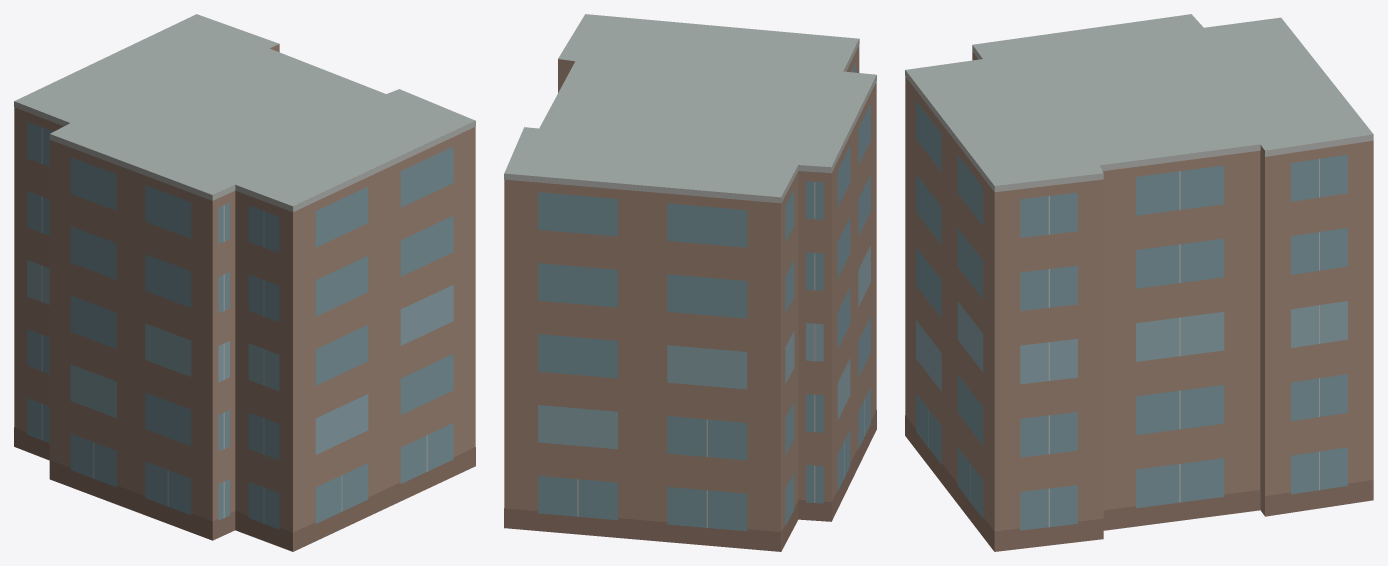
File: survey-upis-32718548.glb
3 renders of one model, left to right at view 1: azimuth 30°, elevation 25°; view 2: azimuth 150°, elevation 25°; view 3: azimuth 270°, elevation 25°, orthographic. The views are drawn at different scales.
Parts seen in each view (by area): view 1: survey-upis-32718548.tmp; view 2: survey-upis-32718548.tmp; view 3: survey-upis-32718548.tmp.
Part boxes in pixels (bbox=[...]): survey-upis-32718548.tmp: bbox=[14, 14, 475, 551]; survey-upis-32718548.tmp: bbox=[504, 14, 876, 551]; survey-upis-32718548.tmp: bbox=[905, 14, 1373, 551].
Size of the model in its own units: 14.54 by 14.4 by 16.72.
